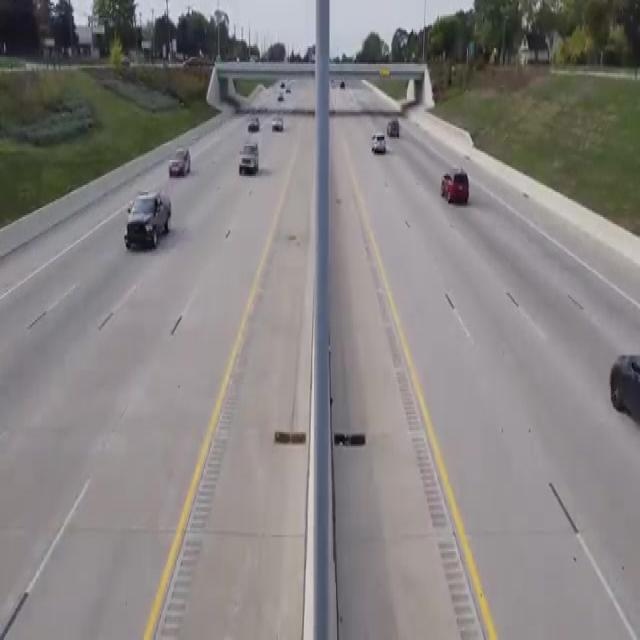car: (428, 161, 494, 215), (162, 130, 200, 196), (234, 140, 264, 188), (362, 126, 393, 152), (238, 105, 263, 134), (382, 116, 410, 140), (269, 111, 289, 130), (268, 85, 288, 104)
van: (125, 168, 162, 275)
